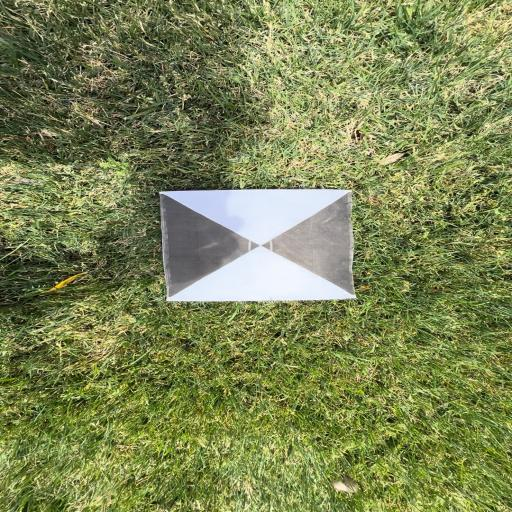target: (160, 192, 356, 298)
